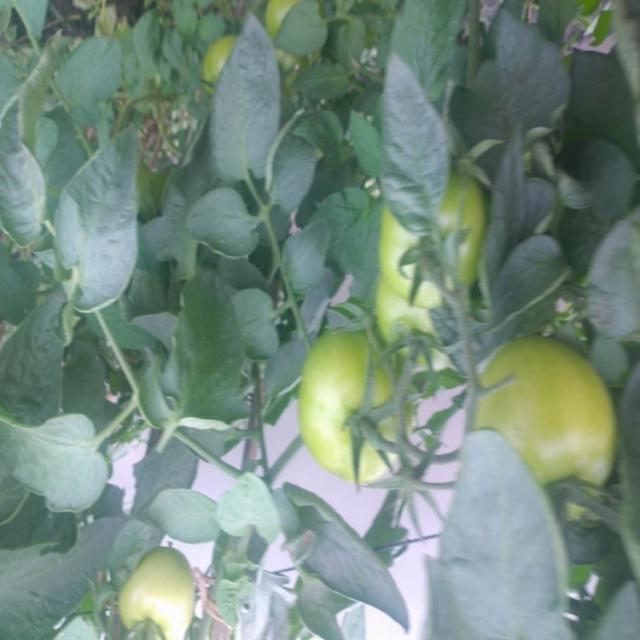tomato: (460, 331, 617, 498), (302, 325, 404, 487), (372, 174, 496, 304), (101, 549, 197, 636), (365, 275, 454, 356), (199, 33, 231, 86)
